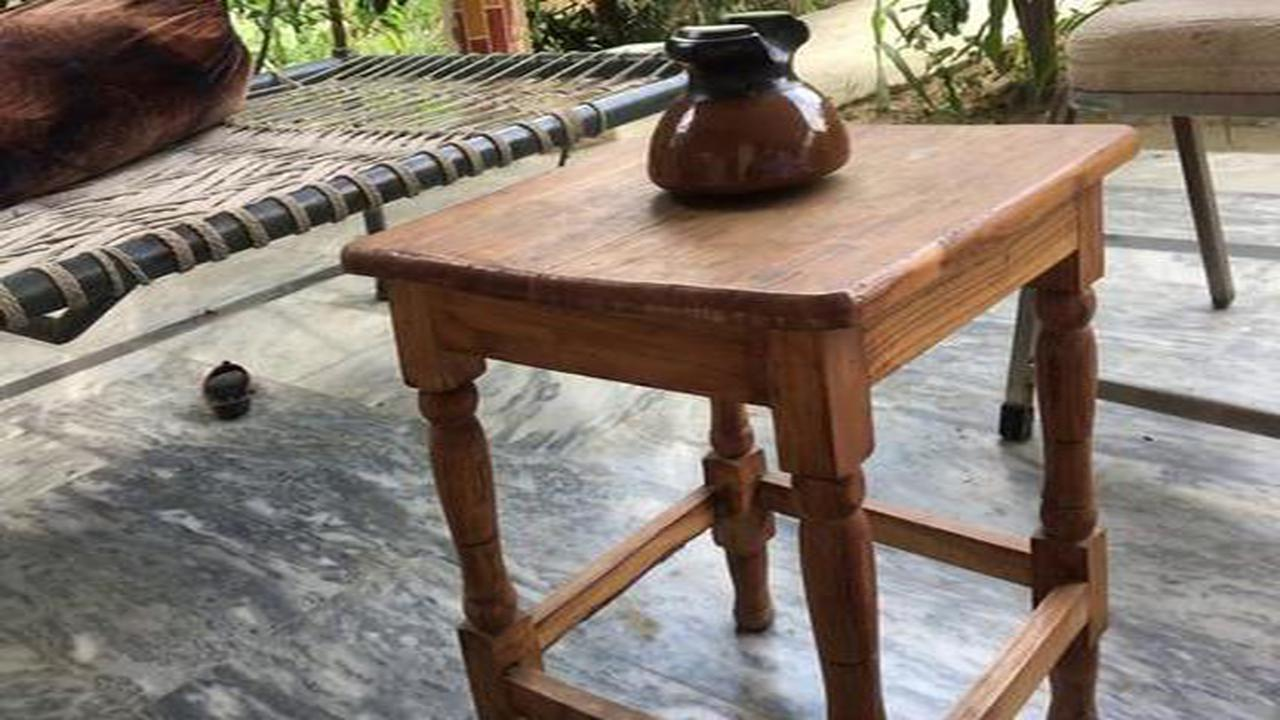insulator_pin: (610, 2, 874, 231)
